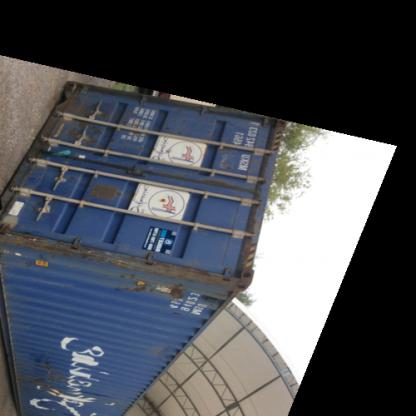Damage: (9, 230, 105, 263), (62, 91, 108, 148), (30, 340, 72, 400), (113, 274, 190, 306), (87, 173, 136, 207), (156, 336, 182, 362)
